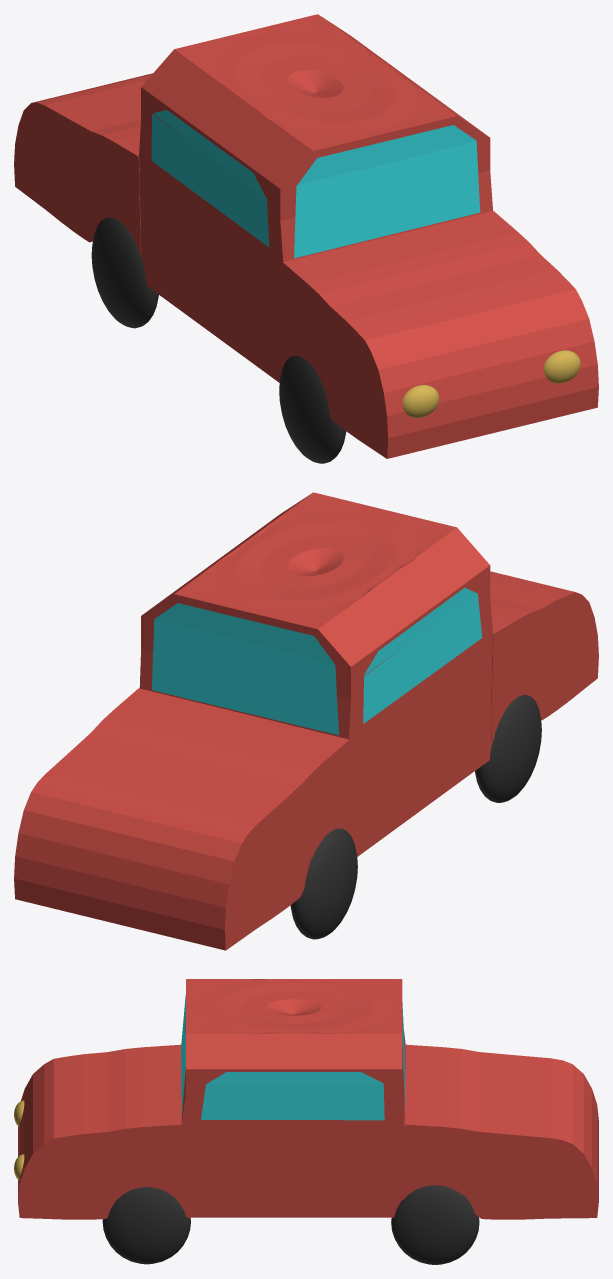
File: car.fbx
The picture shows the model from 3 angles, top to bottom: view 1: azimuth 30°, elevation 25°; view 2: azimuth 150°, elevation 25°; view 3: azimuth 270°, elevation 25°; orthographic projection. The views are drawn at different scales.
Parts seen in each view (by area): view 1: Plane.003; view 2: Plane.003; view 3: Plane.003.
Boxes of the visible parts, left/top/right/bottom form: Plane.003: left=14, top=14, right=598, bottom=463; Plane.003: left=14, top=492, right=598, bottom=950; Plane.003: left=14, top=979, right=598, bottom=1264.
Bounding box in the file's own units: 456 × 525 × 1263.
